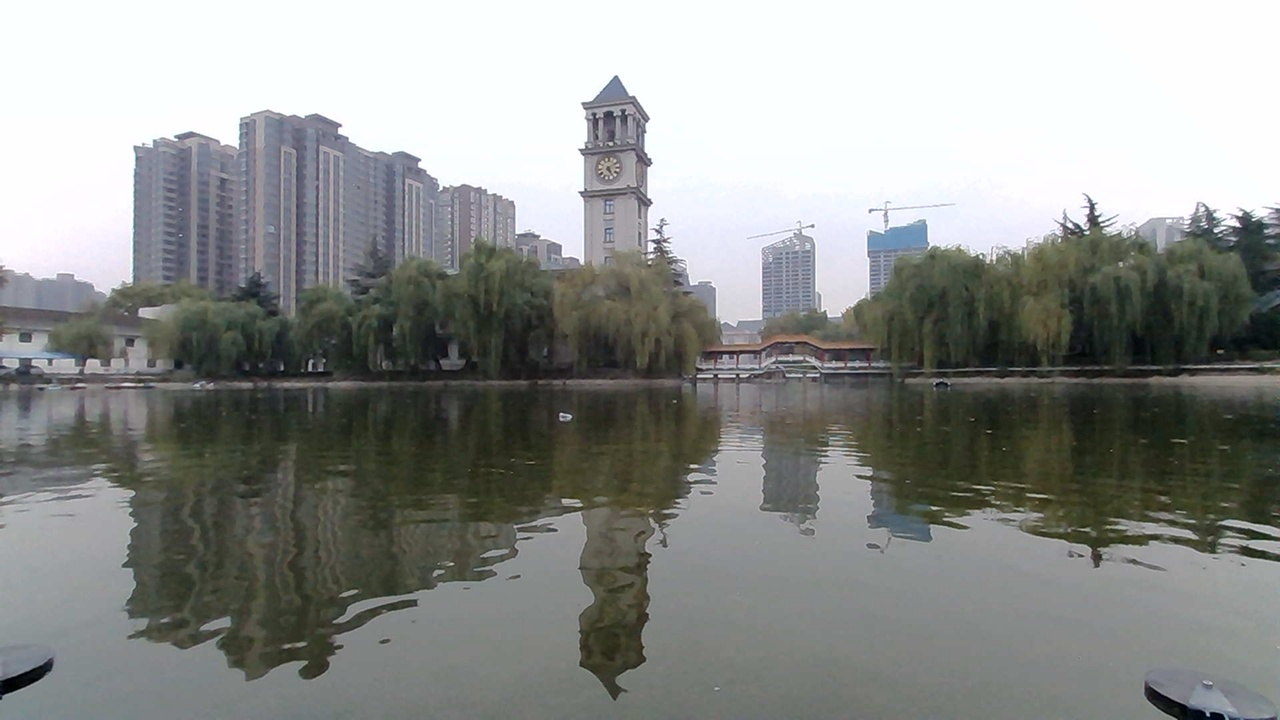bottle: (548, 402, 581, 427)
